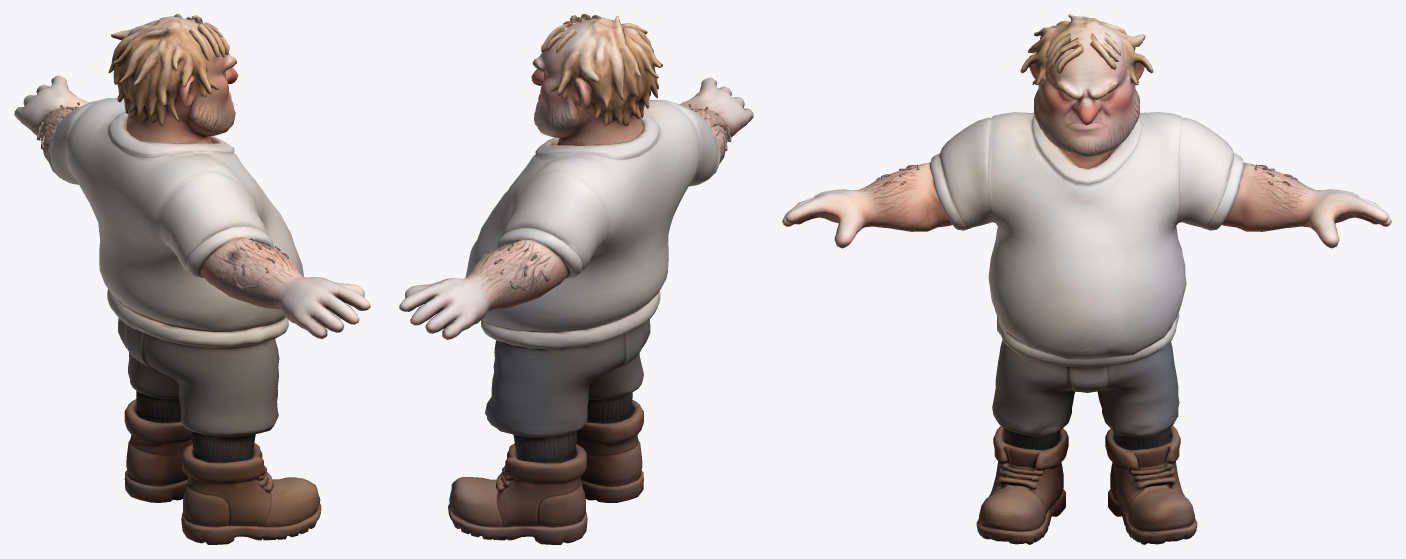
3 renders of one model, left to right at view 1: azimuth 30°, elevation 25°; view 2: azimuth 150°, elevation 25°; view 3: azimuth 270°, elevation 25°, orthographic. The views are drawn at different scales.
Parts seen in each view (by area): view 1: tripo_node_9713f4e3; view 2: tripo_node_9713f4e3; view 3: tripo_node_9713f4e3.
Boxes of the visible parts, x1=… form: tripo_node_9713f4e3: x1=14, y1=14, x2=370, y2=544; tripo_node_9713f4e3: x1=399, y1=14, x2=753, y2=544; tripo_node_9713f4e3: x1=782, y1=14, x2=1391, y2=544.
Bounding box in the file's own units: 33.27 × 86.89 × 100.
Materials: 1 (1 with a texture image).
